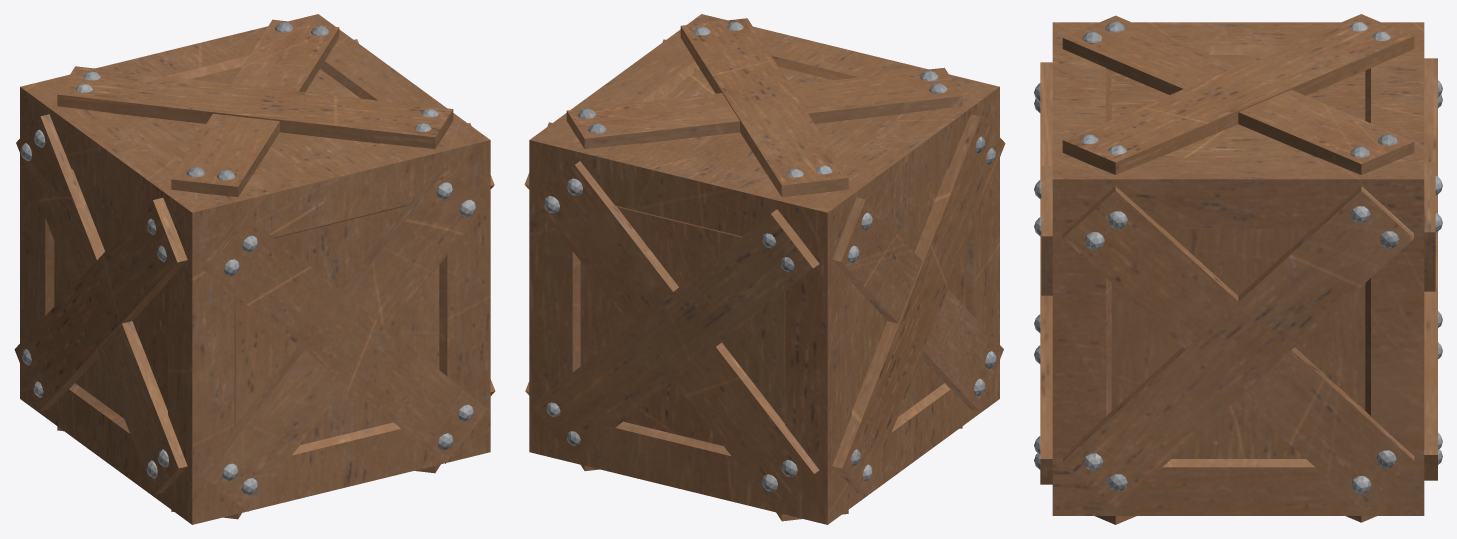
The model's file is wood_box.fbx.
3 renders of one model, left to right at view 1: azimuth 30°, elevation 25°; view 2: azimuth 150°, elevation 25°; view 3: azimuth 270°, elevation 25°, orthographic. The views are drawn at different scales.
Visible parts, largest first — view 1: Cube; view 2: Cube; view 3: Cube.
Boxes of the visible parts, x1=… form: Cube: x1=14, y1=14, x2=495, y2=524; Cube: x1=524, y1=14, x2=1005, y2=524; Cube: x1=1034, y1=14, x2=1442, y2=524.
Bounding box in the file's own units: 220 × 221 × 220.
2 materials, 2 textured.
